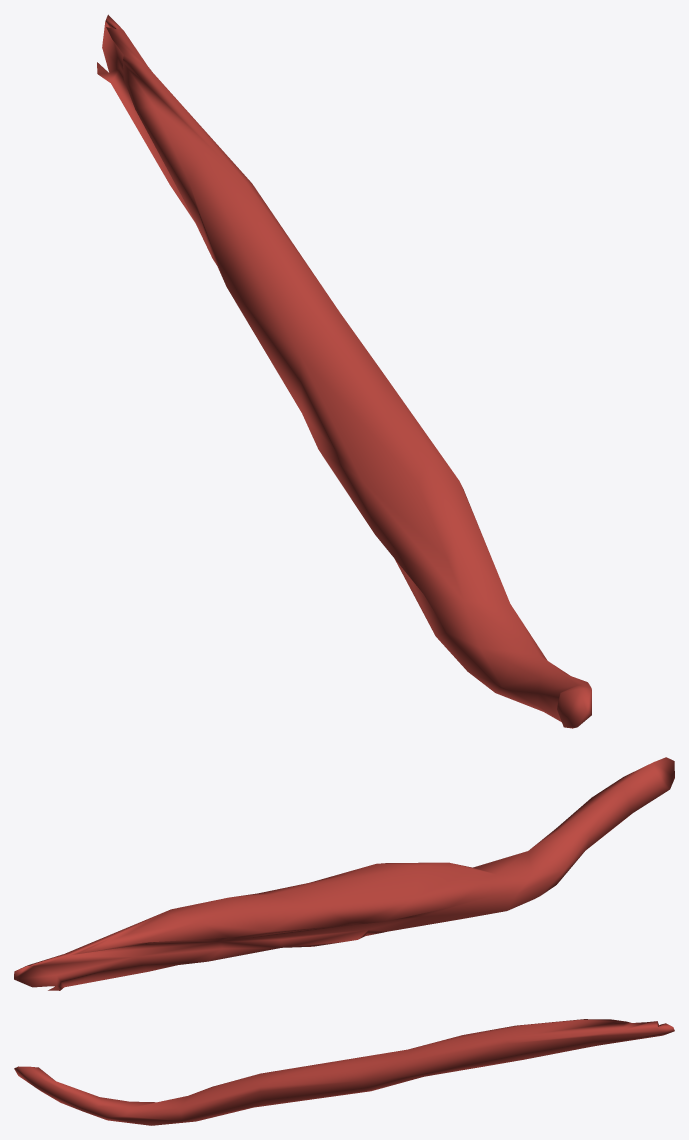
Rendered from musculos-lumbrical-muscles-of-foot-r.glb.
The picture shows the model from 3 angles, top to bottom: view 1: azimuth 30°, elevation 25°; view 2: azimuth 150°, elevation 25°; view 3: azimuth 270°, elevation 25°; orthographic projection. The views are drawn at different scales.
Parts seen in each view (by area): view 1: Lumbrical muscles of foot.r; view 2: Lumbrical muscles of foot.r; view 3: Lumbrical muscles of foot.r.
Part boxes in pixels (box(x1,y1,x2,y2)): Lumbrical muscles of foot.r: box(97, 14, 591, 728); Lumbrical muscles of foot.r: box(14, 757, 674, 990); Lumbrical muscles of foot.r: box(14, 1019, 674, 1125).
Size of the model in its own units: 0.0157 by 0.0202 by 0.094.
